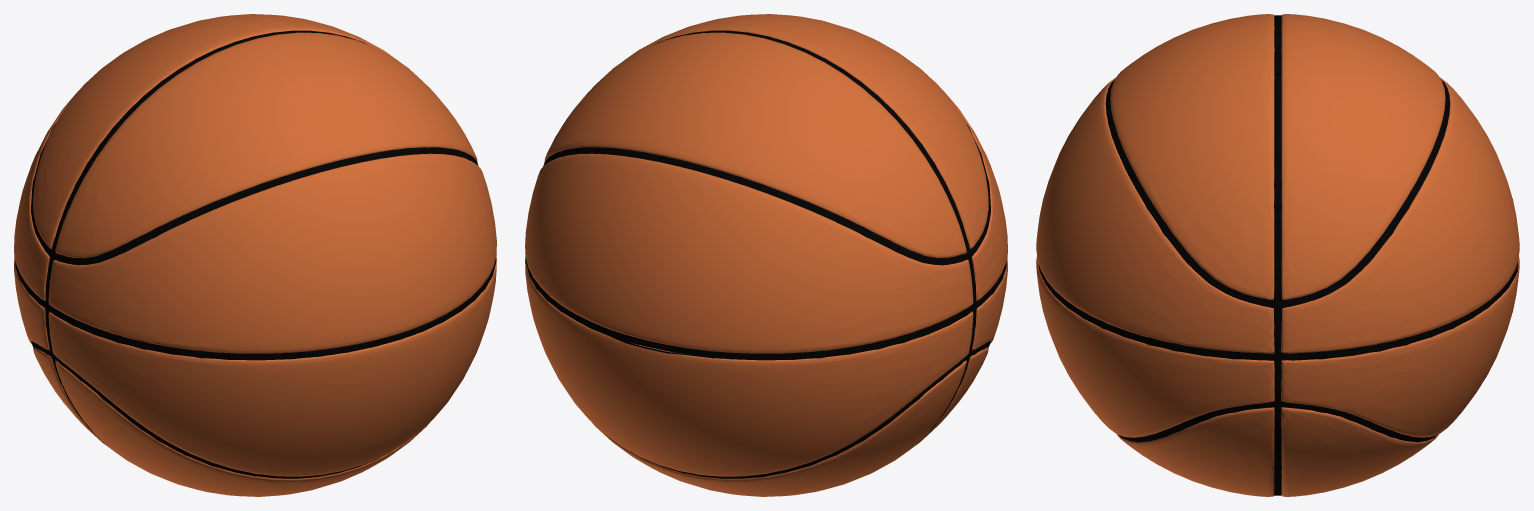
File: Basketball.glb
3 views of the same model, side by side, from view 1: azimuth 30°, elevation 25°; view 2: azimuth 150°, elevation 25°; view 3: azimuth 270°, elevation 25° (orthographic).
Visible parts, largest first — view 1: bbc_ball_body, Sphere; view 2: bbc_ball_body, Sphere; view 3: bbc_ball_body, Sphere.
Boxes of the visible parts, x1,y1,x2,y2 form: bbc_ball_body: (14, 14, 496, 496); Sphere: (15, 30, 495, 478); bbc_ball_body: (525, 14, 1007, 496); Sphere: (526, 30, 1006, 478); bbc_ball_body: (1036, 14, 1519, 496); Sphere: (1038, 15, 1517, 495).
Size of the model in its own units: 1 by 1 by 1.
